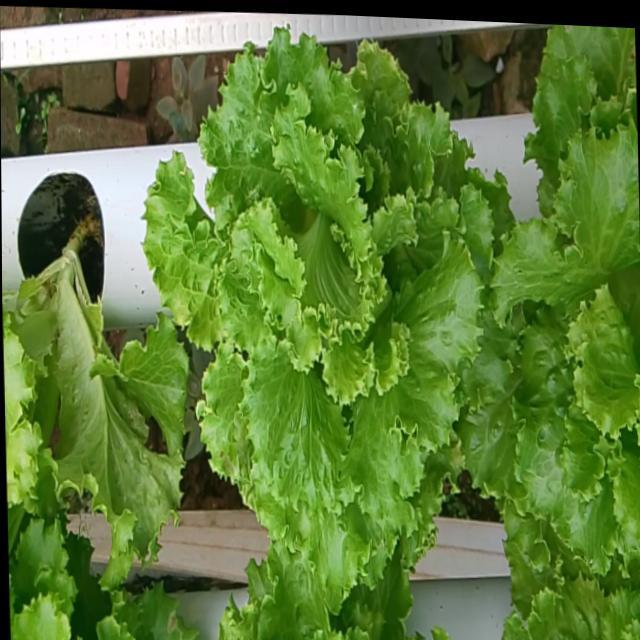Mature: (135, 13, 484, 575), (453, 100, 640, 561)
